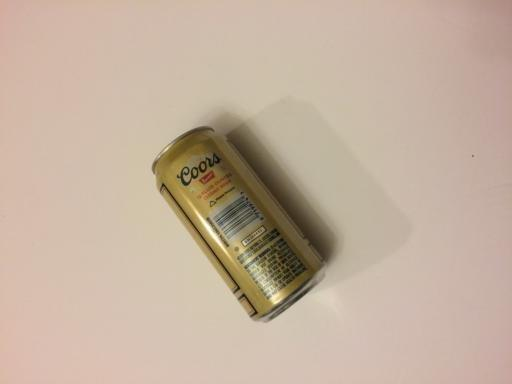kaleng: (156, 133, 325, 322)
